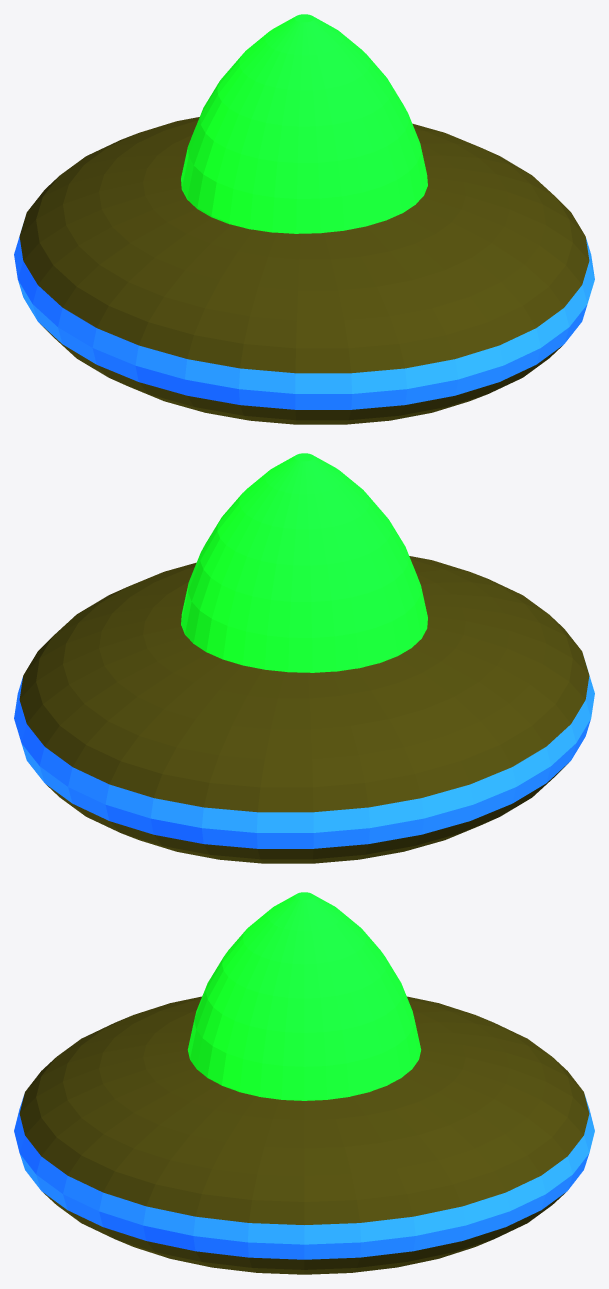
Rendered from UFO 1.fbx.
3 renders of one model, top to bottom at view 1: azimuth 30°, elevation 25°; view 2: azimuth 150°, elevation 25°; view 3: azimuth 270°, elevation 25°, orthographic. The views are drawn at different scales.
Parts seen in each view (by area): view 1: Sphere, Cylinder; view 2: Sphere, Cylinder; view 3: Sphere, Cylinder.
Boxes of the visible parts, x1,y1,x2,y2 form: Sphere: (14,117,594,424); Cylinder: (181,14,427,233); Sphere: (14,556,594,863); Cylinder: (181,453,427,672); Sphere: (14,996,594,1274); Cylinder: (187,892,421,1100).
Bounding box in the file's own units: 447 × 296 × 482.
